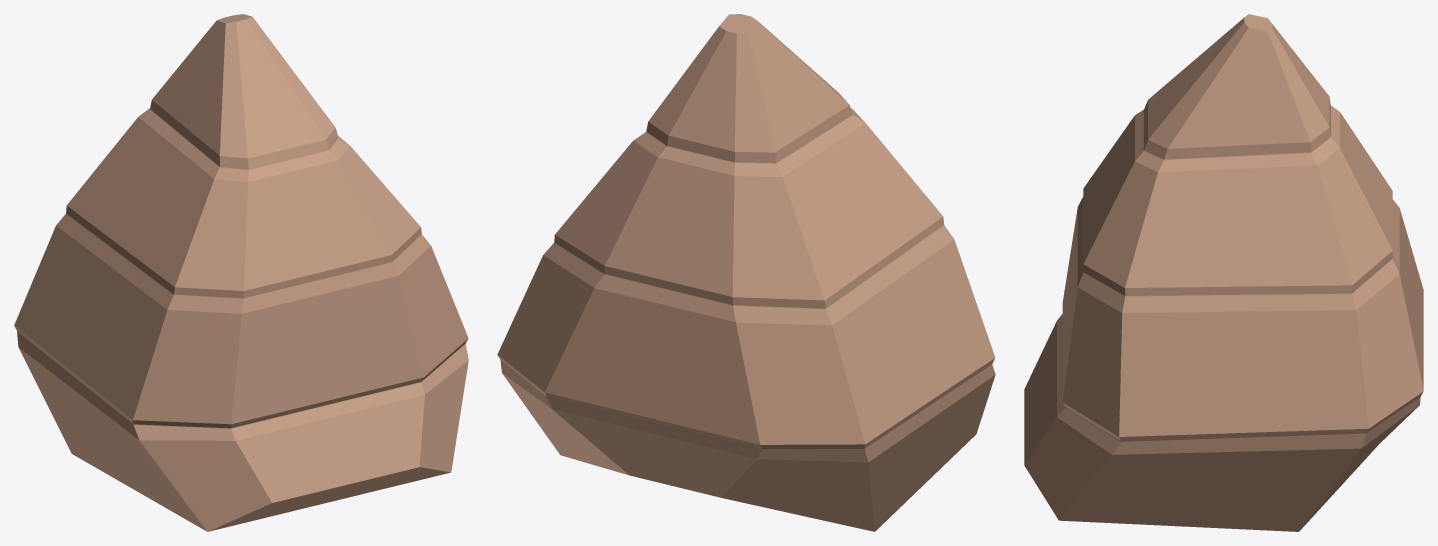
The model's file is Shell_temp.fbx.
3 views of the same model, side by side, from view 1: azimuth 30°, elevation 25°; view 2: azimuth 150°, elevation 25°; view 3: azimuth 270°, elevation 25° (orthographic). The views are drawn at different scales.
Parts seen in each view (by area): view 1: shell.001; view 2: shell.001; view 3: shell.001.
Boxes of the visible parts, <box> form: shell.001: <box>14,14,468,531</box>; shell.001: <box>497,14,995,531</box>; shell.001: <box>1024,14,1423,531</box>.
Bounding box in the file's own units: 111 × 132 × 109.
